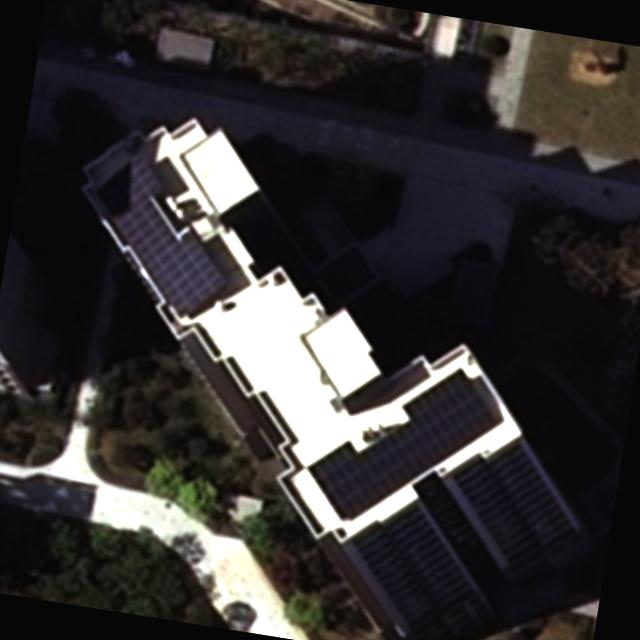solar: (298, 344, 506, 546), (75, 145, 248, 324)
